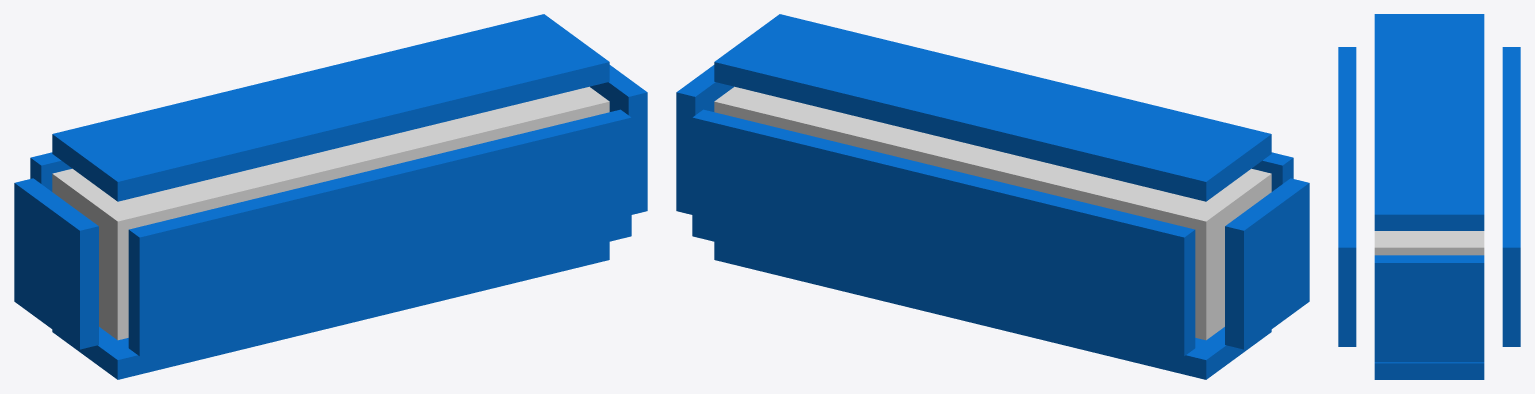
Rendered from gravity_platform_x3.fbx.
3 views of the same model, side by side, from view 1: azimuth 30°, elevation 25°; view 2: azimuth 150°, elevation 25°; view 3: azimuth 270°, elevation 25° (orthographic). The views are drawn at different scales.
Parts seen in each view (by area): view 1: side6, side2, core, side3, side1, side4, side5; view 2: side5, side2, core, side3, side1, side4, side6; view 3: side2, side4, side5, side6, core, side1.
Part boxes in pixels (bbox=[...]): side6: bbox=[128, 109, 631, 356]; side2: bbox=[52, 14, 609, 201]; core: bbox=[52, 86, 609, 340]; side3: bbox=[14, 178, 98, 349]; side1: bbox=[52, 241, 609, 379]; side4: bbox=[590, 65, 647, 214]; side5: bbox=[30, 152, 71, 191]; side5: bbox=[692, 109, 1195, 356]; side2: bbox=[714, 14, 1271, 201]; core: bbox=[714, 86, 1271, 340]; side3: bbox=[1225, 178, 1309, 349]; side1: bbox=[714, 241, 1271, 379]; side4: bbox=[676, 65, 733, 214]; side6: bbox=[1252, 152, 1293, 191]; side2: bbox=[1374, 14, 1484, 230]; side4: bbox=[1374, 255, 1484, 362]; side5: bbox=[1502, 47, 1520, 346]; side6: bbox=[1338, 47, 1356, 346]; core: bbox=[1374, 231, 1484, 255]; side1: bbox=[1374, 362, 1484, 379].
Size of the model in its own units: 30 by 10 by 10.
